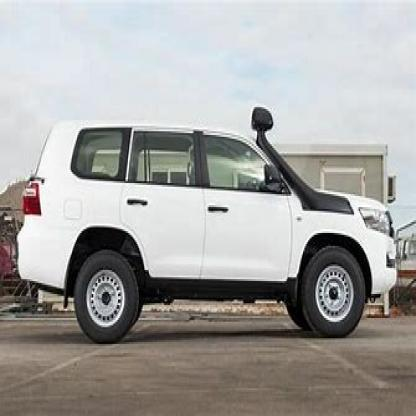light_vehicle: (13, 98, 396, 342)
